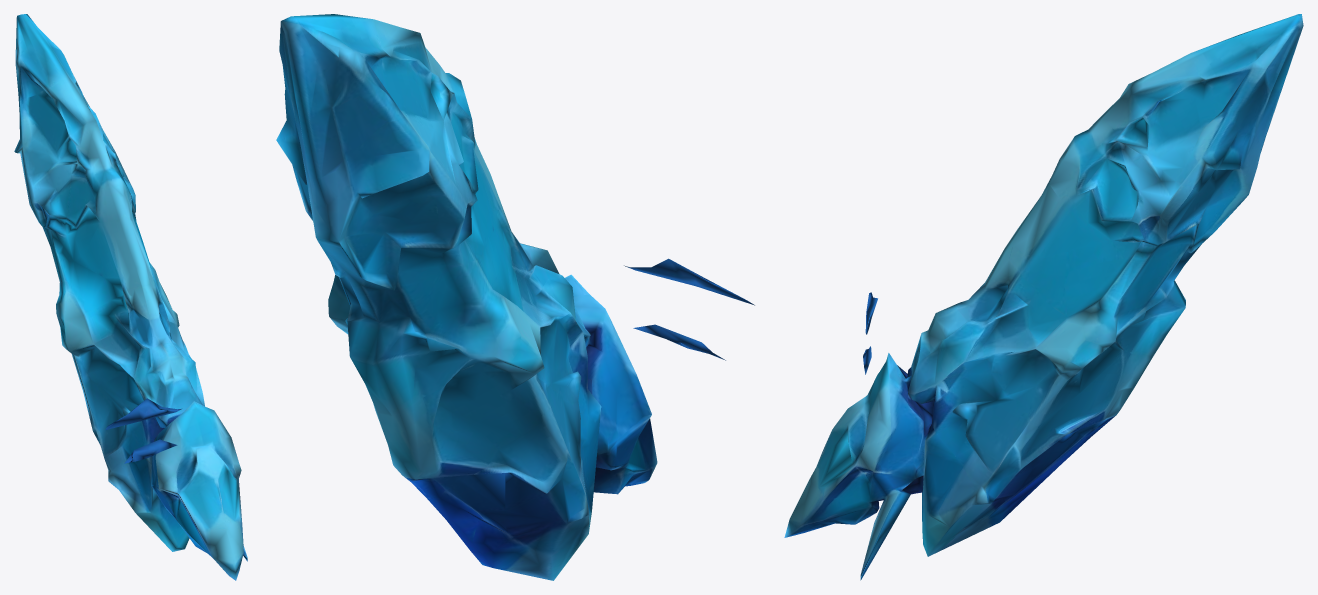
The model's file is skill_iceshard_b-CIK-nzca.glb.
3 renders of one model, left to right at view 1: azimuth 30°, elevation 25°; view 2: azimuth 150°, elevation 25°; view 3: azimuth 270°, elevation 25°, orthographic. The views are drawn at different scales.
Parts seen in each view (by area): view 1: tripo_node_0ae655f6-09f5-43c2-b6bb-be6030056870; view 2: tripo_node_0ae655f6-09f5-43c2-b6bb-be6030056870; view 3: tripo_node_0ae655f6-09f5-43c2-b6bb-be6030056870.
Boxes of the visible parts, x1,y1,x2,y2 form: tripo_node_0ae655f6-09f5-43c2-b6bb-be6030056870: (14,14,247,580); tripo_node_0ae655f6-09f5-43c2-b6bb-be6030056870: (276,14,754,580); tripo_node_0ae655f6-09f5-43c2-b6bb-be6030056870: (784,14,1303,580).
Bounding box in the file's own units: 0.3711 × 1 × 0.877.
Materials: 1 (1 with a texture image).
